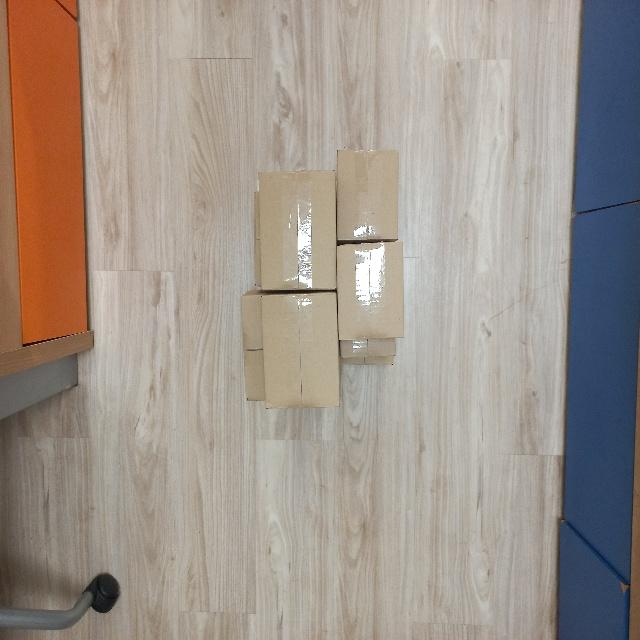box: (252, 167, 340, 289), (255, 292, 344, 409), (334, 241, 409, 342), (333, 146, 401, 242)
